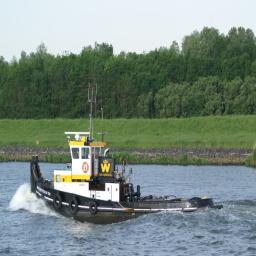tugboat: (29, 81, 229, 234)
